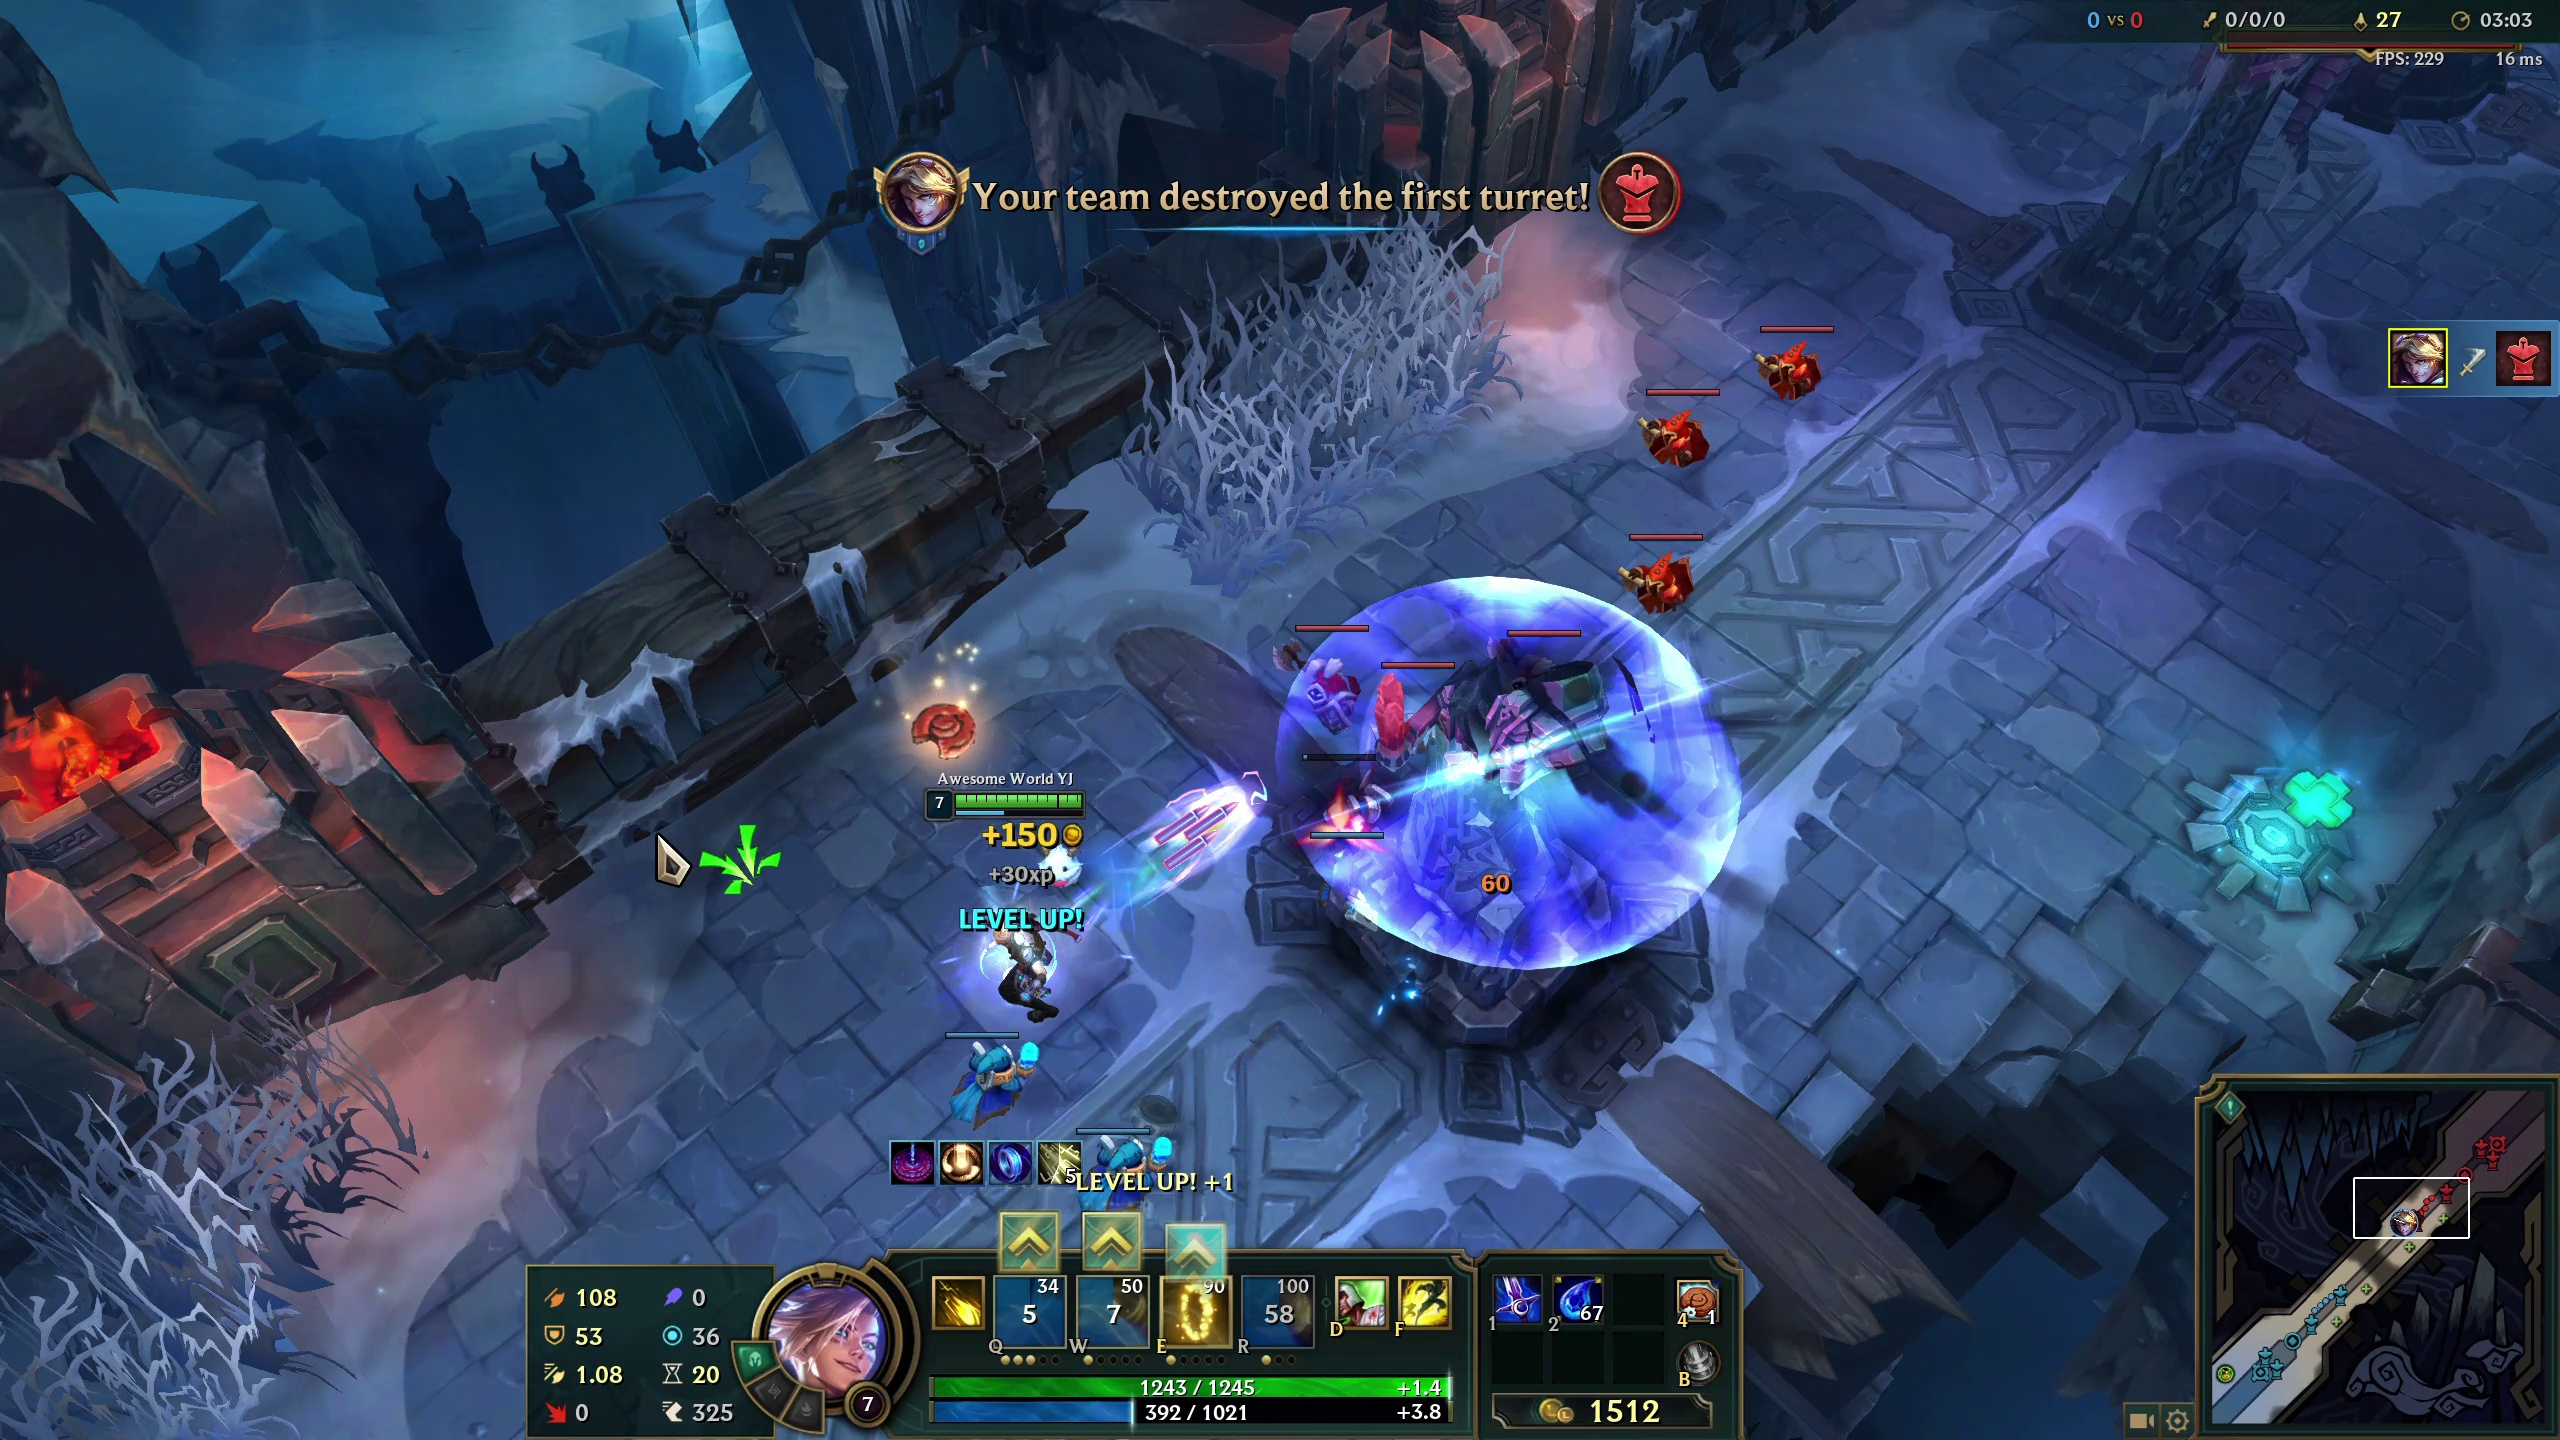EZ: (960, 775, 1069, 1009)
EnemyMinion: (1292, 621, 1377, 714), (1626, 524, 1711, 615), (1762, 313, 1844, 404), (1639, 378, 1721, 469)
Glass: (2, 1074, 329, 1429), (1222, 274, 1482, 484)
MyMinion: (937, 1030, 1041, 1118), (1083, 1102, 1185, 1189)
Turret: (2047, 23, 2335, 440)
